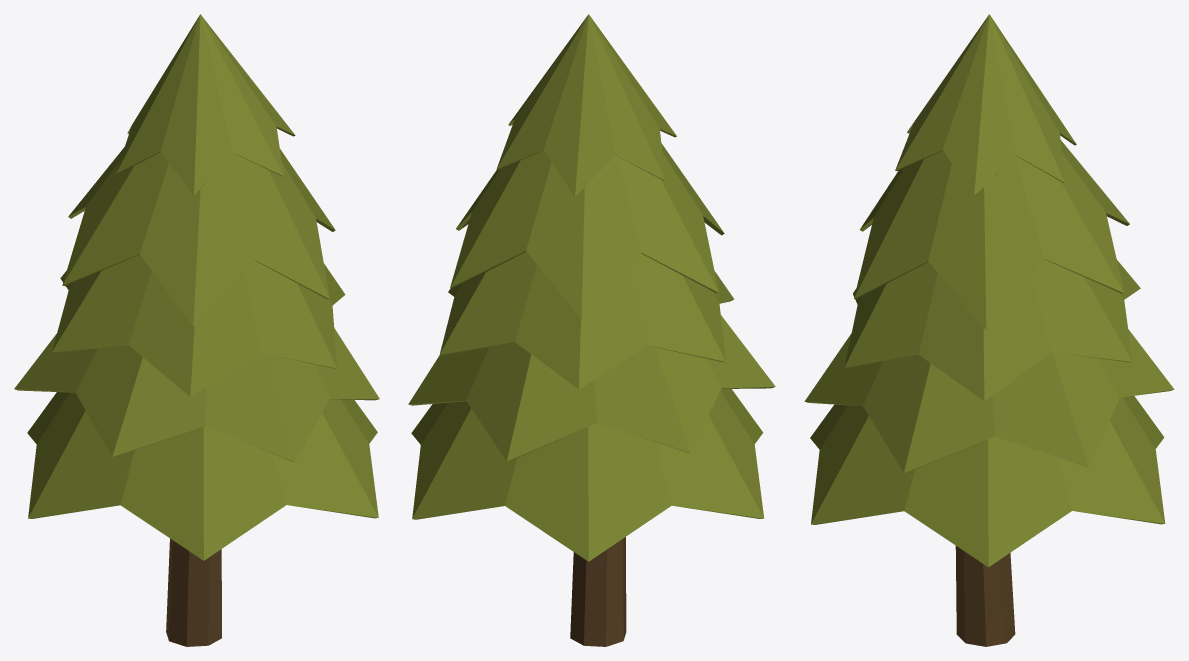
File: Tree_23.fbx
3 renders of one model, left to right at view 1: azimuth 30°, elevation 25°; view 2: azimuth 150°, elevation 25°; view 3: azimuth 270°, elevation 25°, orthographic.
Visible parts, largest first — view 1: Tree_23; view 2: Tree_23; view 3: Tree_23.
Boxes of the visible parts, box(x1,y1,x2,y2) form: Tree_23: box(14, 14, 379, 646); Tree_23: box(408, 14, 775, 646); Tree_23: box(804, 14, 1174, 646).
Size of the model in its own units: 220 by 371 by 199.
